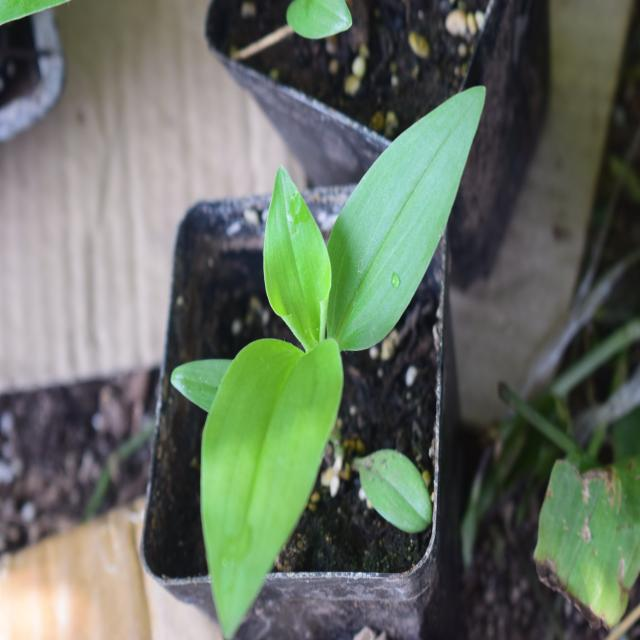Common Dayflower: (179, 89, 485, 593)
